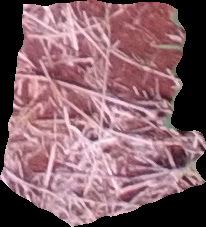soil: (1, 1, 206, 226)
